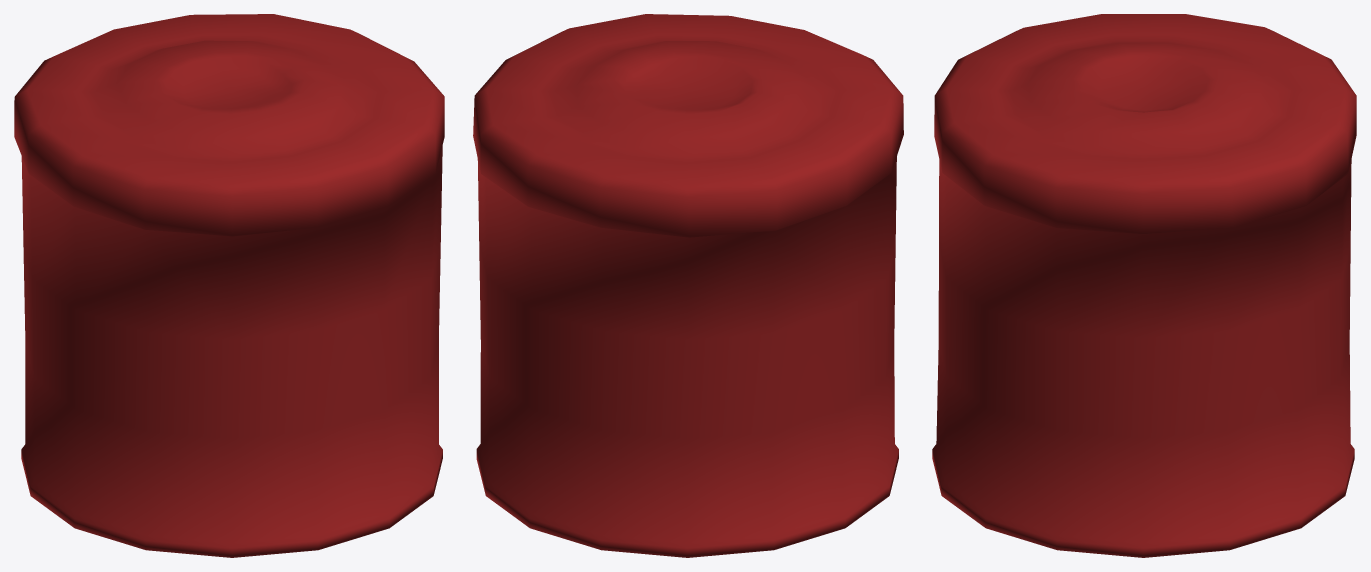
3 renders of one model, left to right at view 1: azimuth 30°, elevation 25°; view 2: azimuth 150°, elevation 25°; view 3: azimuth 270°, elevation 25°, orthographic.
Parts seen in each view (by area): view 1: s4_box2_03_low; view 2: s4_box2_03_low; view 3: s4_box2_03_low.
Part boxes in pixels (x1,y1,x2,y2): s4_box2_03_low: (14, 14, 444, 557); s4_box2_03_low: (473, 14, 903, 557); s4_box2_03_low: (932, 14, 1356, 557).
Size of the model in its own units: 0.8703 by 0.8791 by 0.8752.
